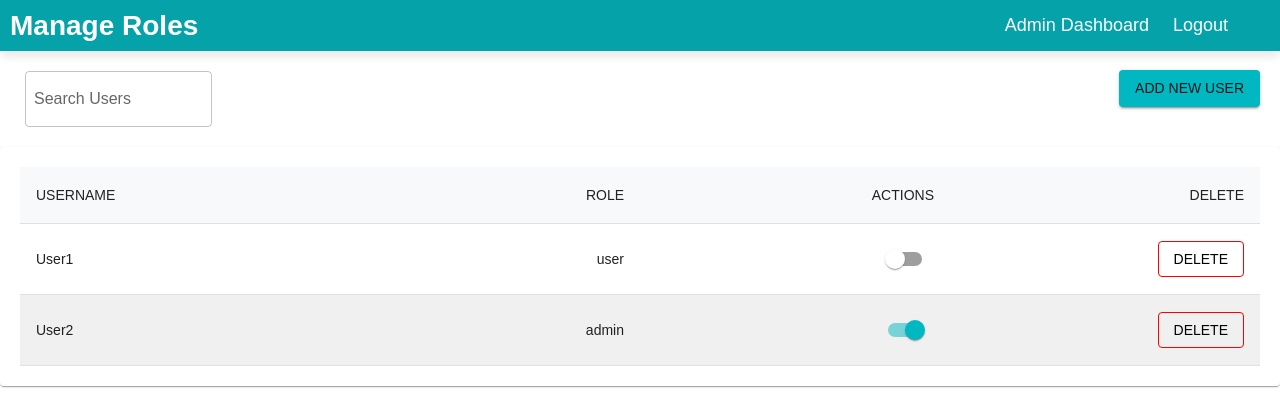
allows searching and filtering users
The width and height of the screenshot is (1280, 405).
Type "User1" into the field labelled "Search Users" at {"x": 118, "y": 99}, box [25,71,212,127]
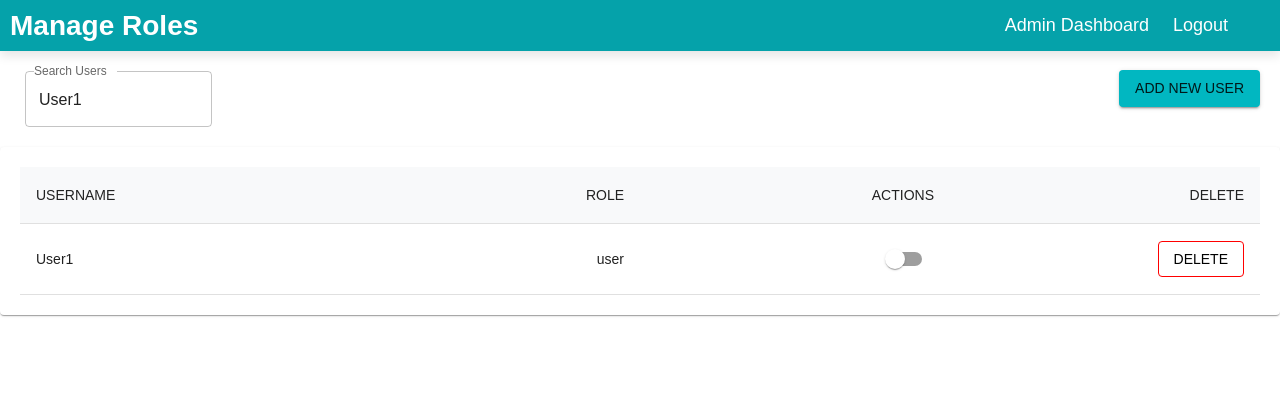
Expected: the text "User1" is shown, [20,224,330,294]
Expected: the text "User2" is gone
